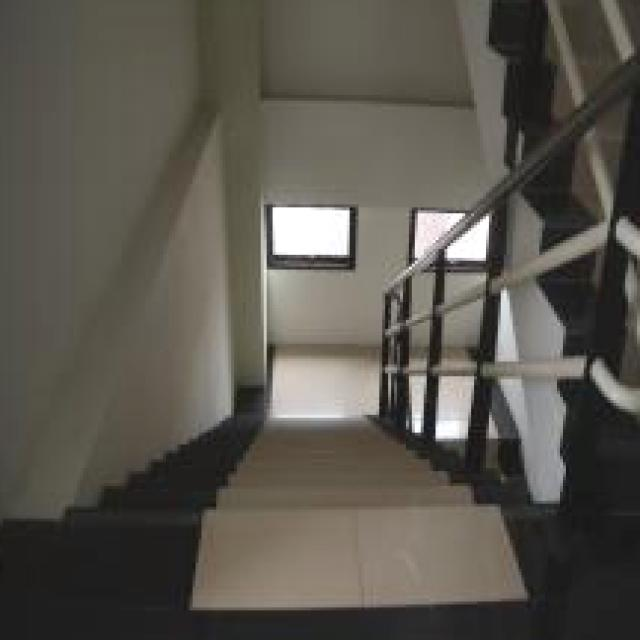downstair: (221, 425, 449, 588)
